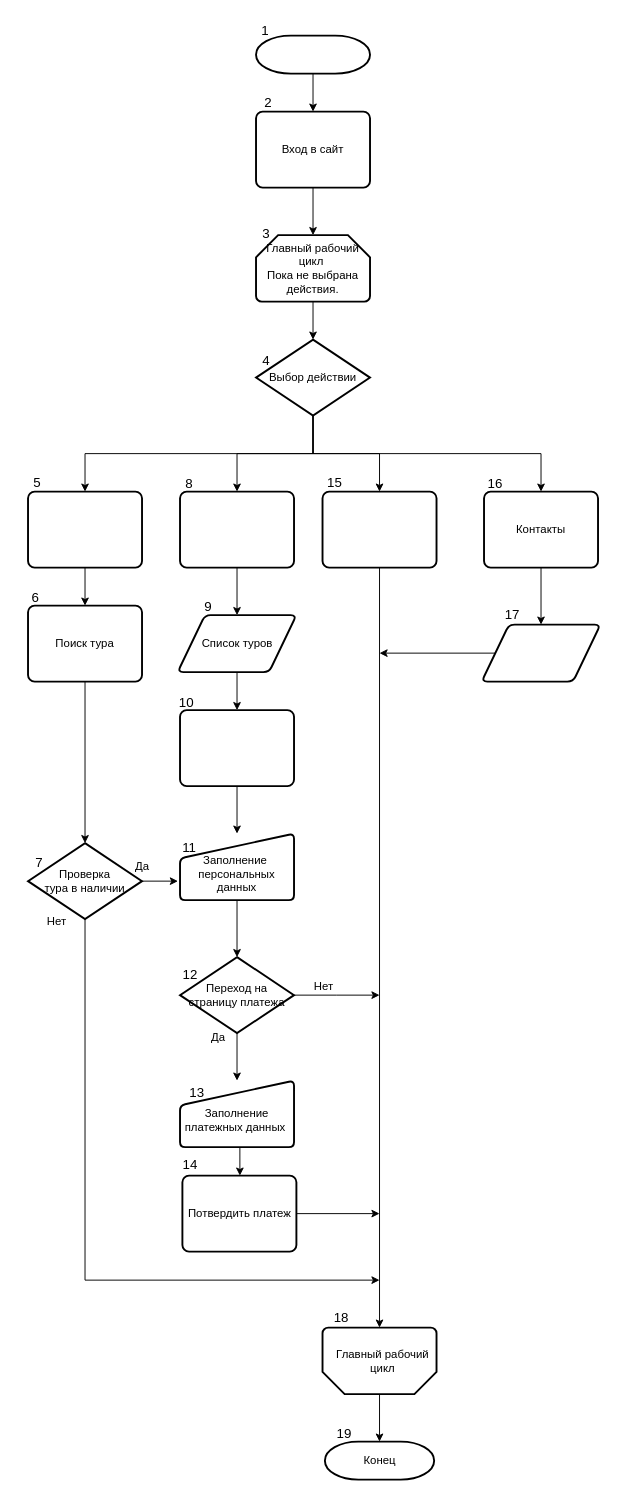
Image size: 618x1496. Some labels were removed from this diagram. Here are the shapes that lost their labels. From the top down, the centre of each, then its label:
(x=312, y=54): начало
(x=84, y=529): Главный меню
(x=236, y=529): Туры
(x=379, y=529): О нас
(x=540, y=652): Список контактов
(x=236, y=748): Выбор тура
